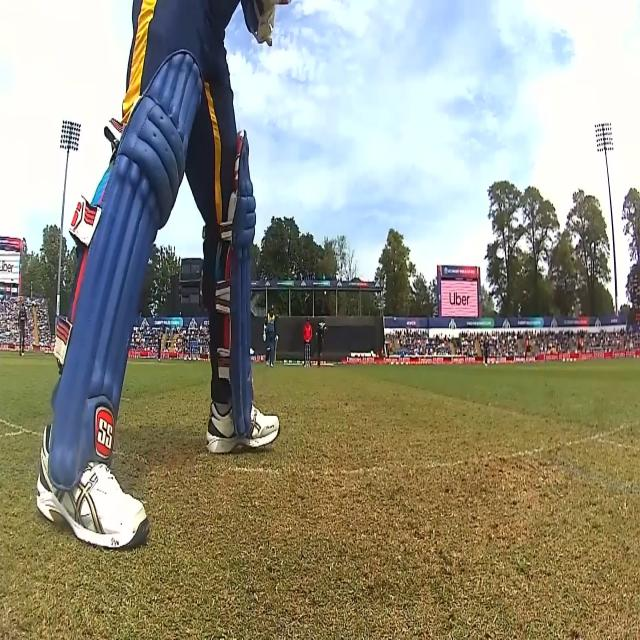ball: (323, 290, 328, 296)
